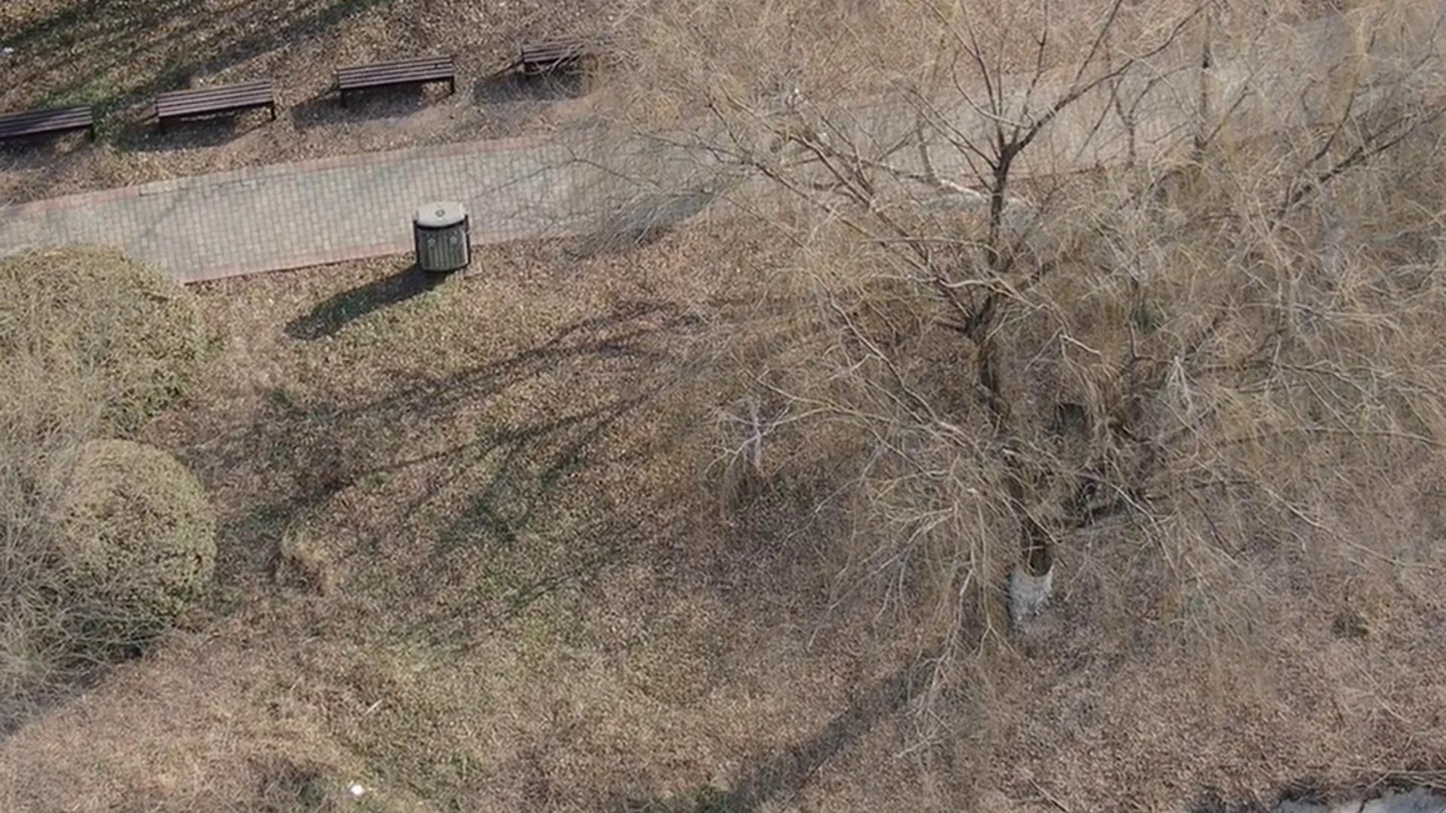human: (769, 76, 819, 179)
